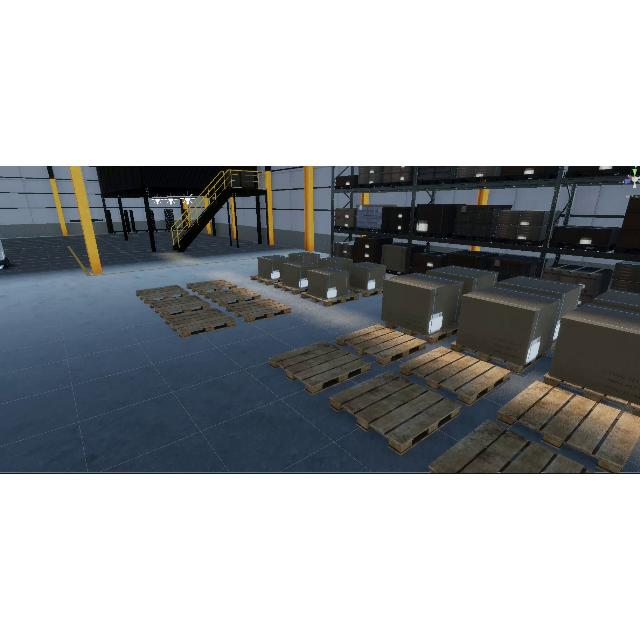wooden_pallet: (450, 342, 548, 375), (385, 322, 459, 343), (300, 291, 360, 307), (348, 285, 383, 298), (273, 282, 308, 295), (251, 274, 283, 286)
